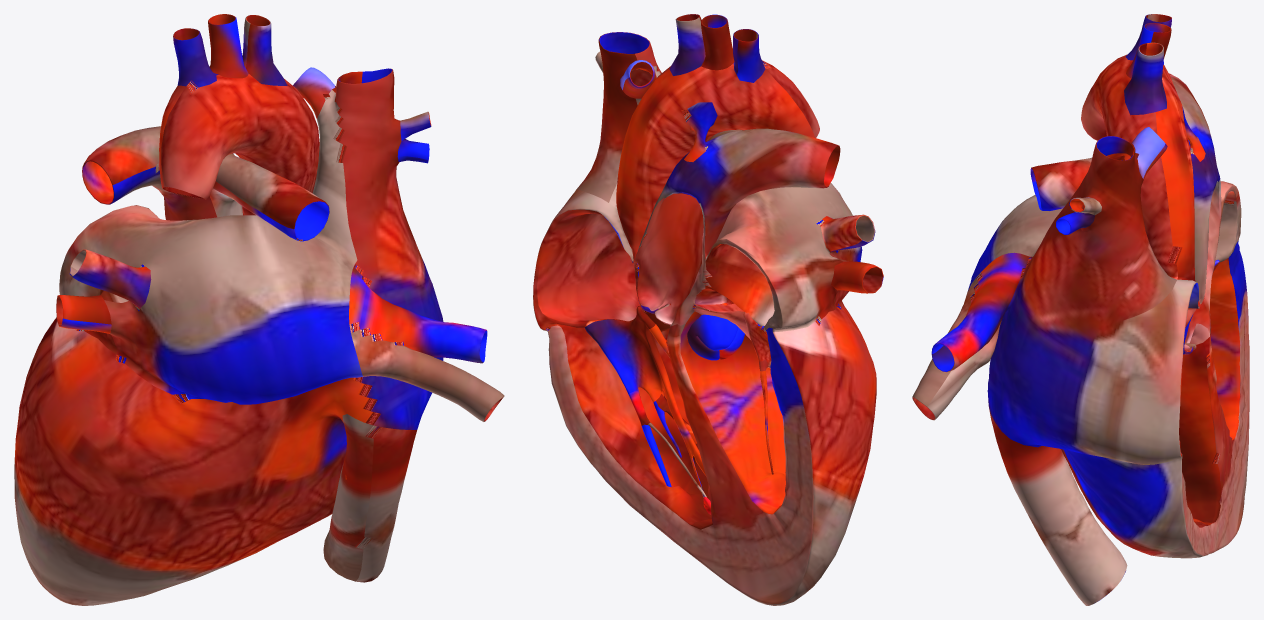
The model's file is half-heart-details.glb.
3 views of the same model, side by side, from view 1: azimuth 30°, elevation 25°; view 2: azimuth 150°, elevation 25°; view 3: azimuth 270°, elevation 25° (orthographic). The views are drawn at different scales.
Visible parts, largest first — view 1: HalfHeartDetails; view 2: HalfHeartDetails; view 3: HalfHeartDetails.
Boxes of the visible parts, bbox=[...] form: HalfHeartDetails: bbox=[14, 14, 504, 605]; HalfHeartDetails: bbox=[533, 14, 883, 605]; HalfHeartDetails: bbox=[912, 14, 1249, 605].
Size of the model in its own units: 0.2169 by 0.3339 by 0.1855.
1 material, 1 textured.
